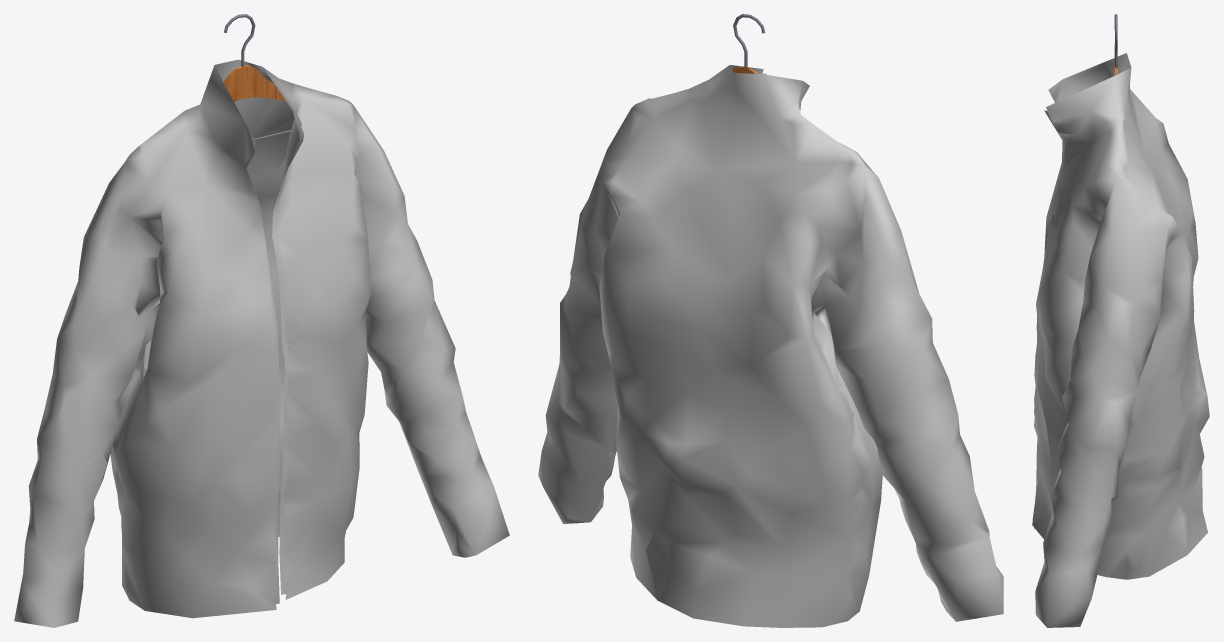
The model's file is jacketPuffy.FBX.
The picture shows the model from 3 angles, left to right: view 1: azimuth 30°, elevation 25°; view 2: azimuth 150°, elevation 25°; view 3: azimuth 270°, elevation 25°; orthographic projection. The views are drawn at different scales.
Visible parts, largest first — view 1: jacket_puffy_LOD0, _Hanger-1_LOD0; view 2: jacket_puffy_LOD0; view 3: jacket_puffy_LOD0.
Part boxes in pixels (<box>): jacket_puffy_LOD0: <box>14,59,509,627</box>; _Hanger-1_LOD0: <box>224,14,290,140</box>; jacket_puffy_LOD0: <box>538,65,1003,627</box>; jacket_puffy_LOD0: <box>1032,53,1209,627</box>.
Size of what is drawn, in the model's own units: 70.78 by 25.09 by 81.46.
